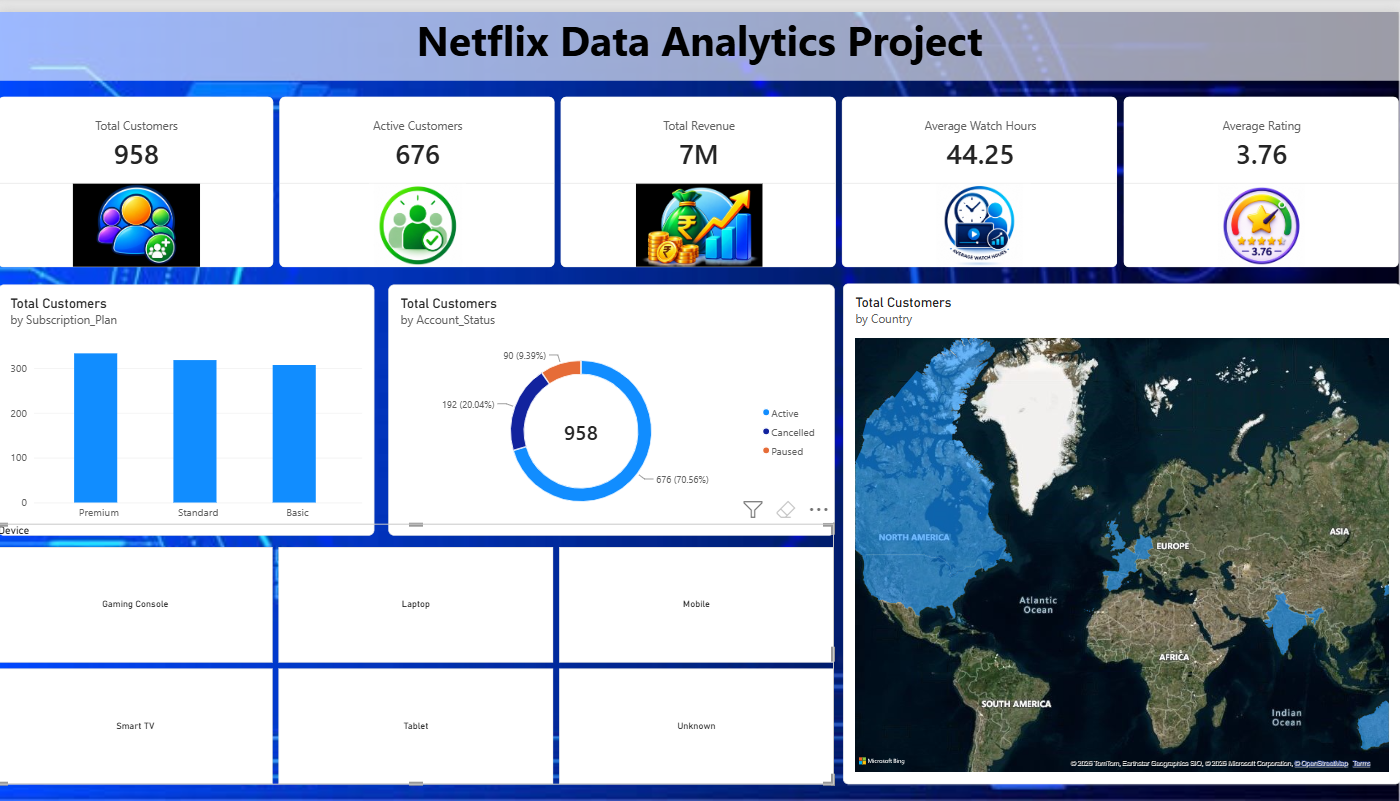

What the dashboard file says about the page in this screenshot:
{"tool":"powerbi","page":{"name":"Page 1","canvas":[1920,1080],"ordinal":0},"visuals":[{"type":"textbox","box":[0,0,1920.1,94.3],"z":0},{"type":"cardVisual","fields":{"Data":["Dax Measures.Total Customers","Dax Measures.Active Customers","Dax Measures.Total Revenue","Dax Measures.Average Watch Hours","Dax Measures.Average Rating"]},"box":[0,116.2,1920.1,234.1],"z":1000},{"type":"clusteredColumnChart","fields":{"Category":["netflix_customers.Subscription_Plan"],"Y":["Dax Measures.Total Customers"]},"box":[0,372.2,515.4,343.6],"z":2000},{"type":"filledMap","fields":{"Category":["netflix_customers.Country"]},"box":[1156.3,371.3,763.8,685.6],"z":3000},{"type":"donutChart","fields":{"Category":["netflix_customers.Account_Status"],"Y":["Dax Measures.Total Customers"]},"box":[534.2,372.9,610.7,343.6],"z":4000},{"type":"advancedSlicerVisual","fields":{"Values":["netflix_customers.Device"]},"box":[0,700.3,1144.9,356.7],"z":5000}]}

Visuals, with their boxes in screenshot pixels (x1, y1, x2, y2), scaled from the page's 1920x1080 canvas onto the 1400x801 screenshot:
textbox: 0/0/1399/70
cardVisual - Dax Measures.Total Customers x Dax Measures.Active Customers: 0/86/1399/260
clusteredColumnChart - netflix_customers.Subscription_Plan x Dax Measures.Total Customers: 0/276/376/531
filledMap - netflix_customers.Country: 843/275/1399/784
donutChart - netflix_customers.Account_Status x Dax Measures.Total Customers: 390/277/835/531
advancedSlicerVisual - netflix_customers.Device: 0/519/835/784
